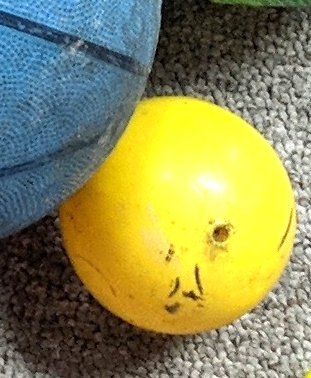ball: (58, 94, 299, 336)
